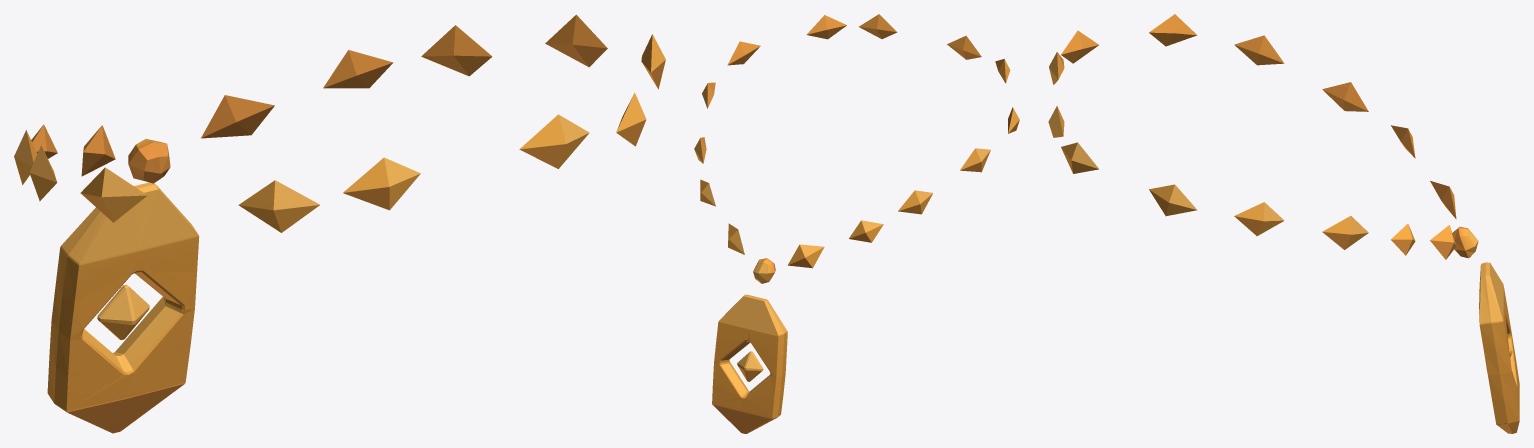
Rendered from CharSkyKid_Neck_AP17Pendant.glb.
3 renders of one model, left to right at view 1: azimuth 30°, elevation 25°; view 2: azimuth 150°, elevation 25°; view 3: azimuth 270°, elevation 25°, orthographic. The views are drawn at different scales.
Parts seen in each view (by area): view 1: CharSkyKid_Neck_AP17Pendant; view 2: CharSkyKid_Neck_AP17Pendant; view 3: CharSkyKid_Neck_AP17Pendant.
Part boxes in pixels (x1,y1,x2,y2): CharSkyKid_Neck_AP17Pendant: [14, 14, 665, 433]; CharSkyKid_Neck_AP17Pendant: [694, 14, 1019, 433]; CharSkyKid_Neck_AP17Pendant: [1048, 14, 1519, 433].
Bounding box in the file's own units: 1.79 × 1.68 × 2.02.
1 material, 1 textured.
